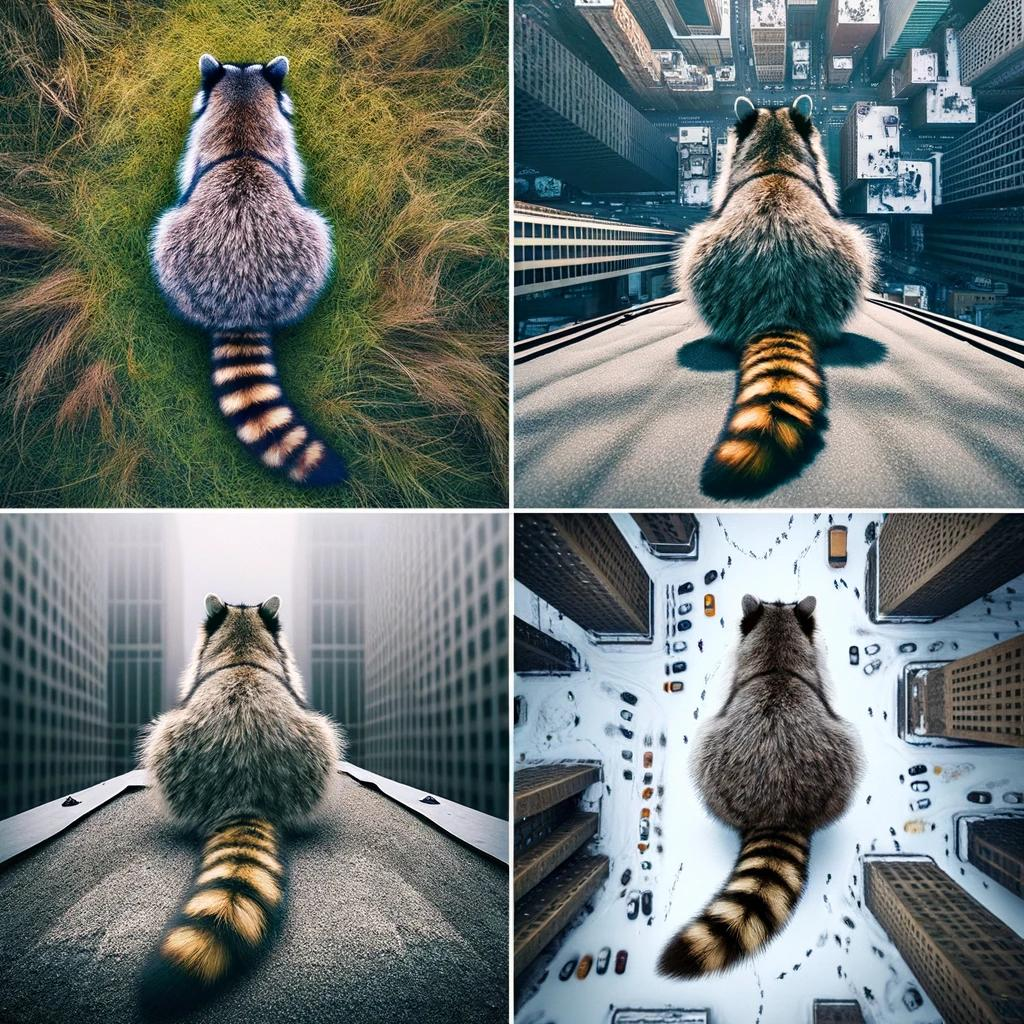raccoon: (118, 588, 357, 1024), (140, 48, 358, 502), (668, 88, 883, 507), (650, 585, 870, 987)
